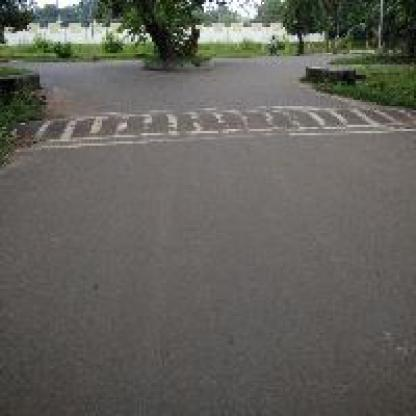Speed Bump: (19, 102, 414, 152)
